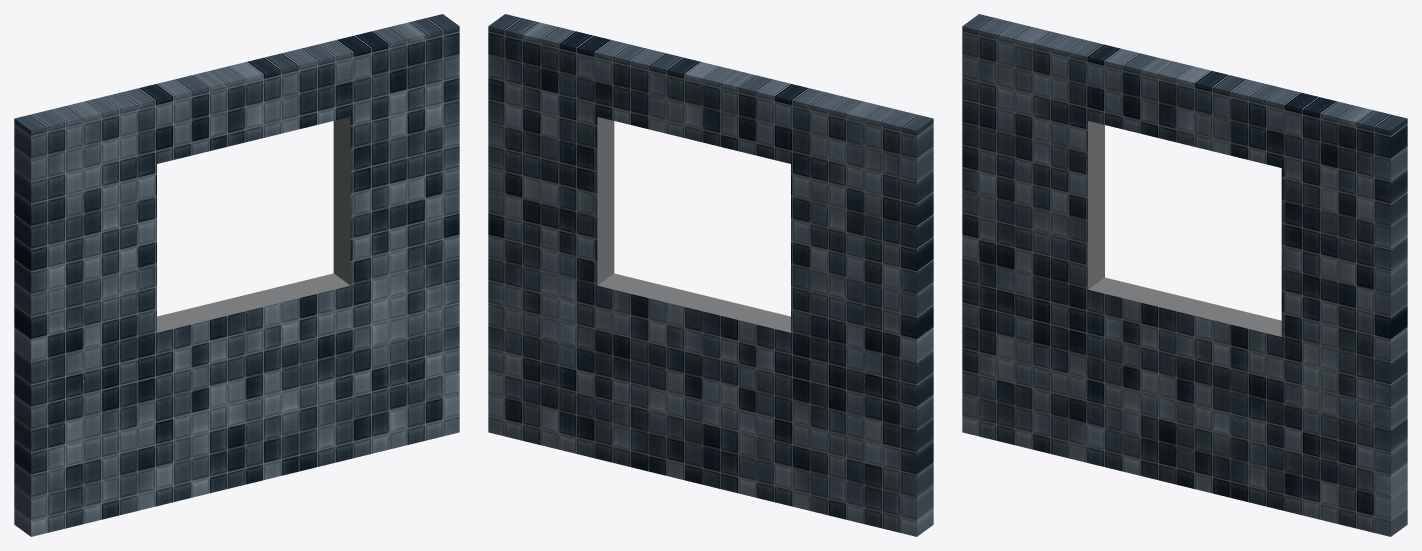
The model's file is ParedVentanaPequena.fbx.
The picture shows the model from 3 angles, left to right: view 1: azimuth 30°, elevation 25°; view 2: azimuth 150°, elevation 25°; view 3: azimuth 330°, elevation 25°; orthographic projection.
Visible parts, largest first — view 1: Pared con ventana baño; view 2: Pared con ventana baño; view 3: Pared con ventana baño.
Boxes of the visible parts, bbox=[...] form: Pared con ventana baño: bbox=[14, 14, 459, 536]; Pared con ventana baño: bbox=[488, 14, 933, 536]; Pared con ventana baño: bbox=[962, 14, 1407, 536].
Size of the model in its own units: 2.65 by 2.4 by 0.18.
